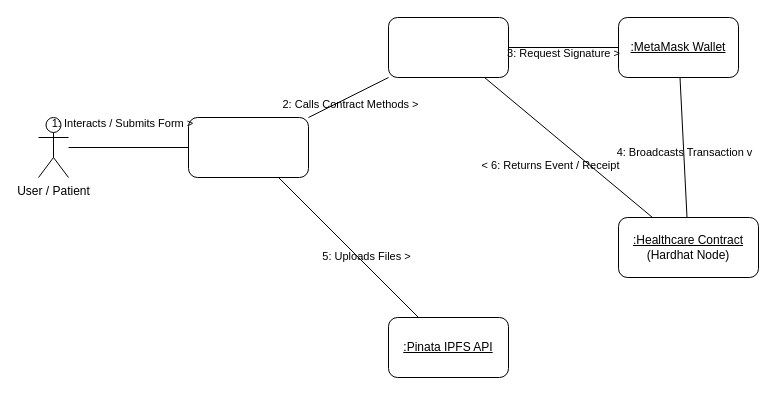
Image size: 776x395. Some labels were removed from this diagram. The shapes that lost their labels are listed below. From the top down, each one's centre as x and y in pixels, then its label:
point 448,47: :Ethers.js Provider
point 248,147: :Next.js Frontend
